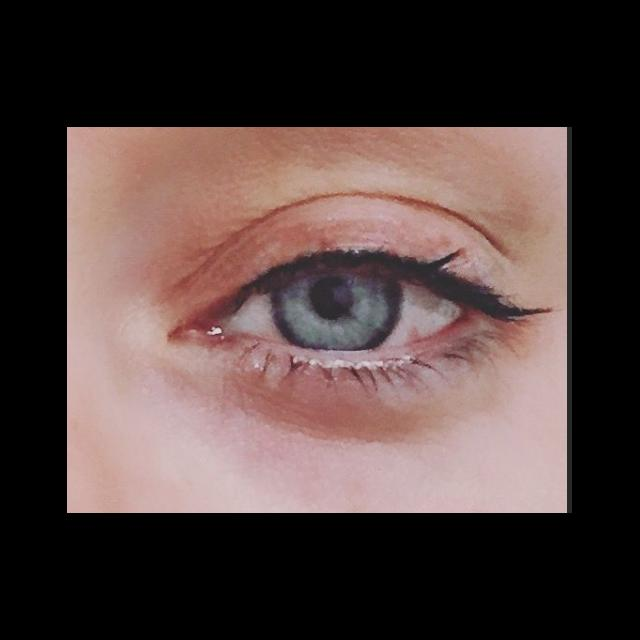eye: (231, 274, 462, 353)
iris: (274, 277, 405, 350)
